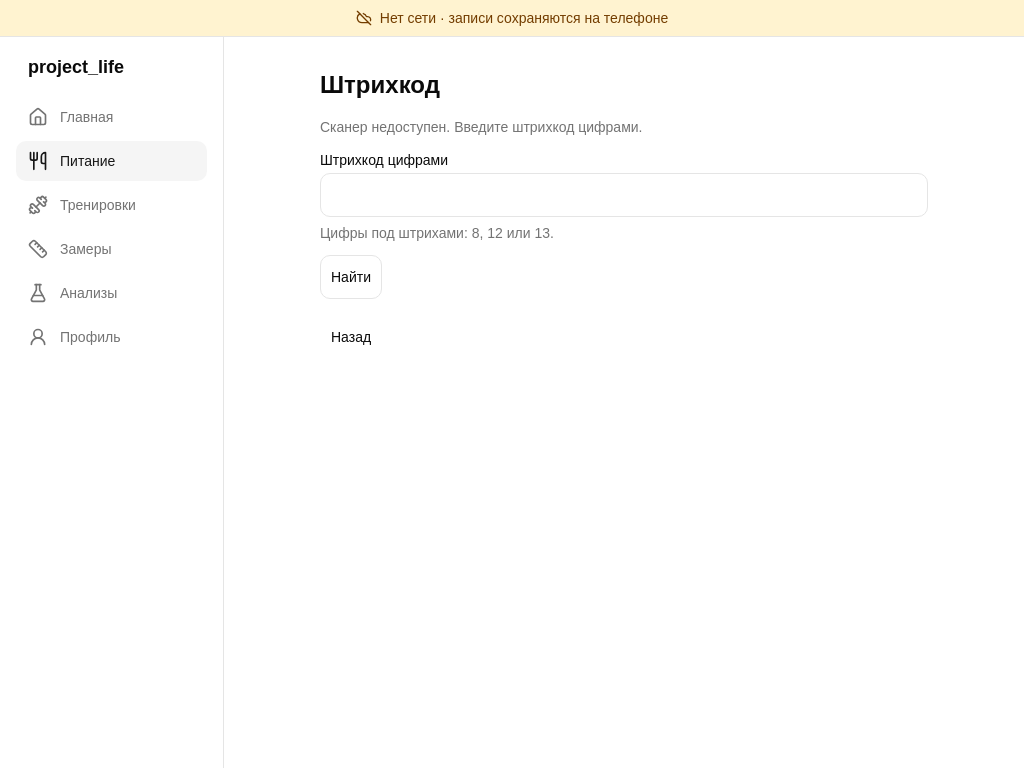
it: дневник без сети › сканер находит знакомый штрихкод в каталоге на телефоне
Type "4600000000008" into the field labelled "Штрихкод цифрами".
click(624, 195); type("4600000000008")  # box [320, 173, 928, 217]
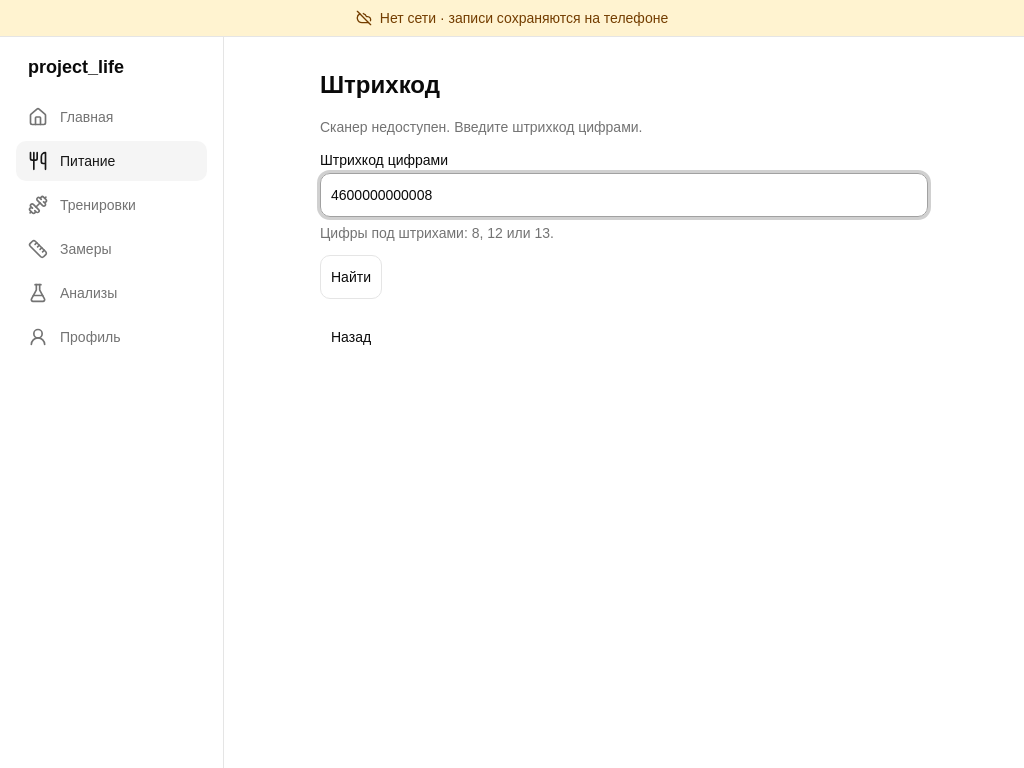
Click the button "Найти".
click(351, 277)  # box [320, 255, 382, 299]
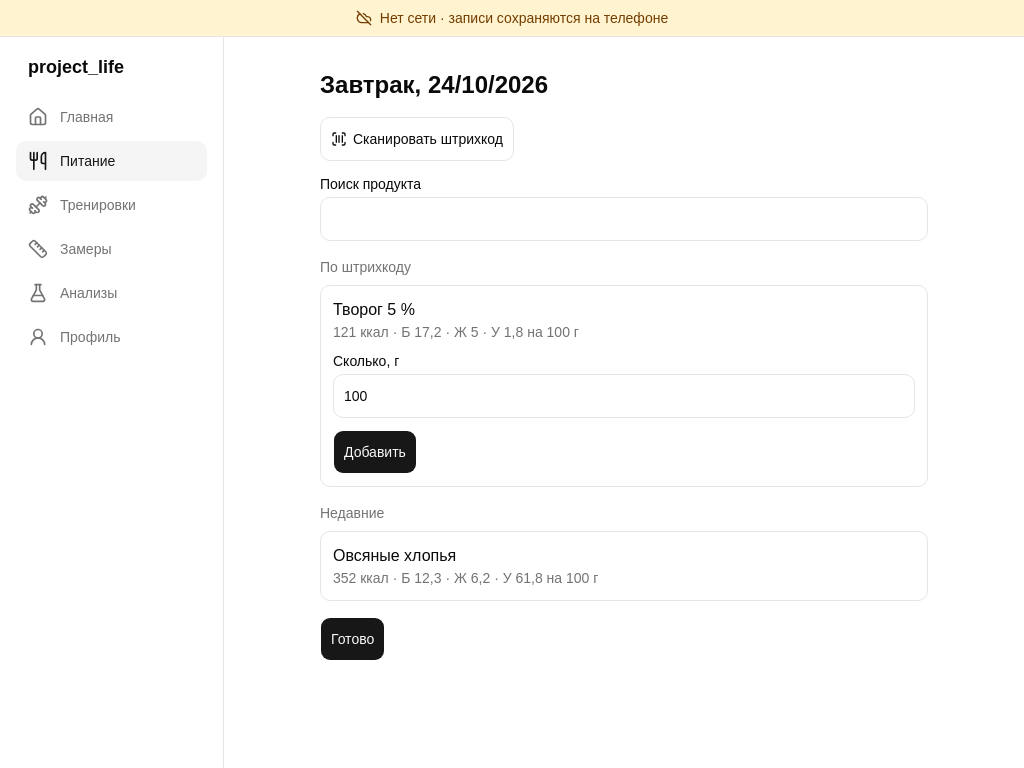
Result: the list named "По штрихкоду" shows "Творог 5 %" at [333, 298, 915, 342]
